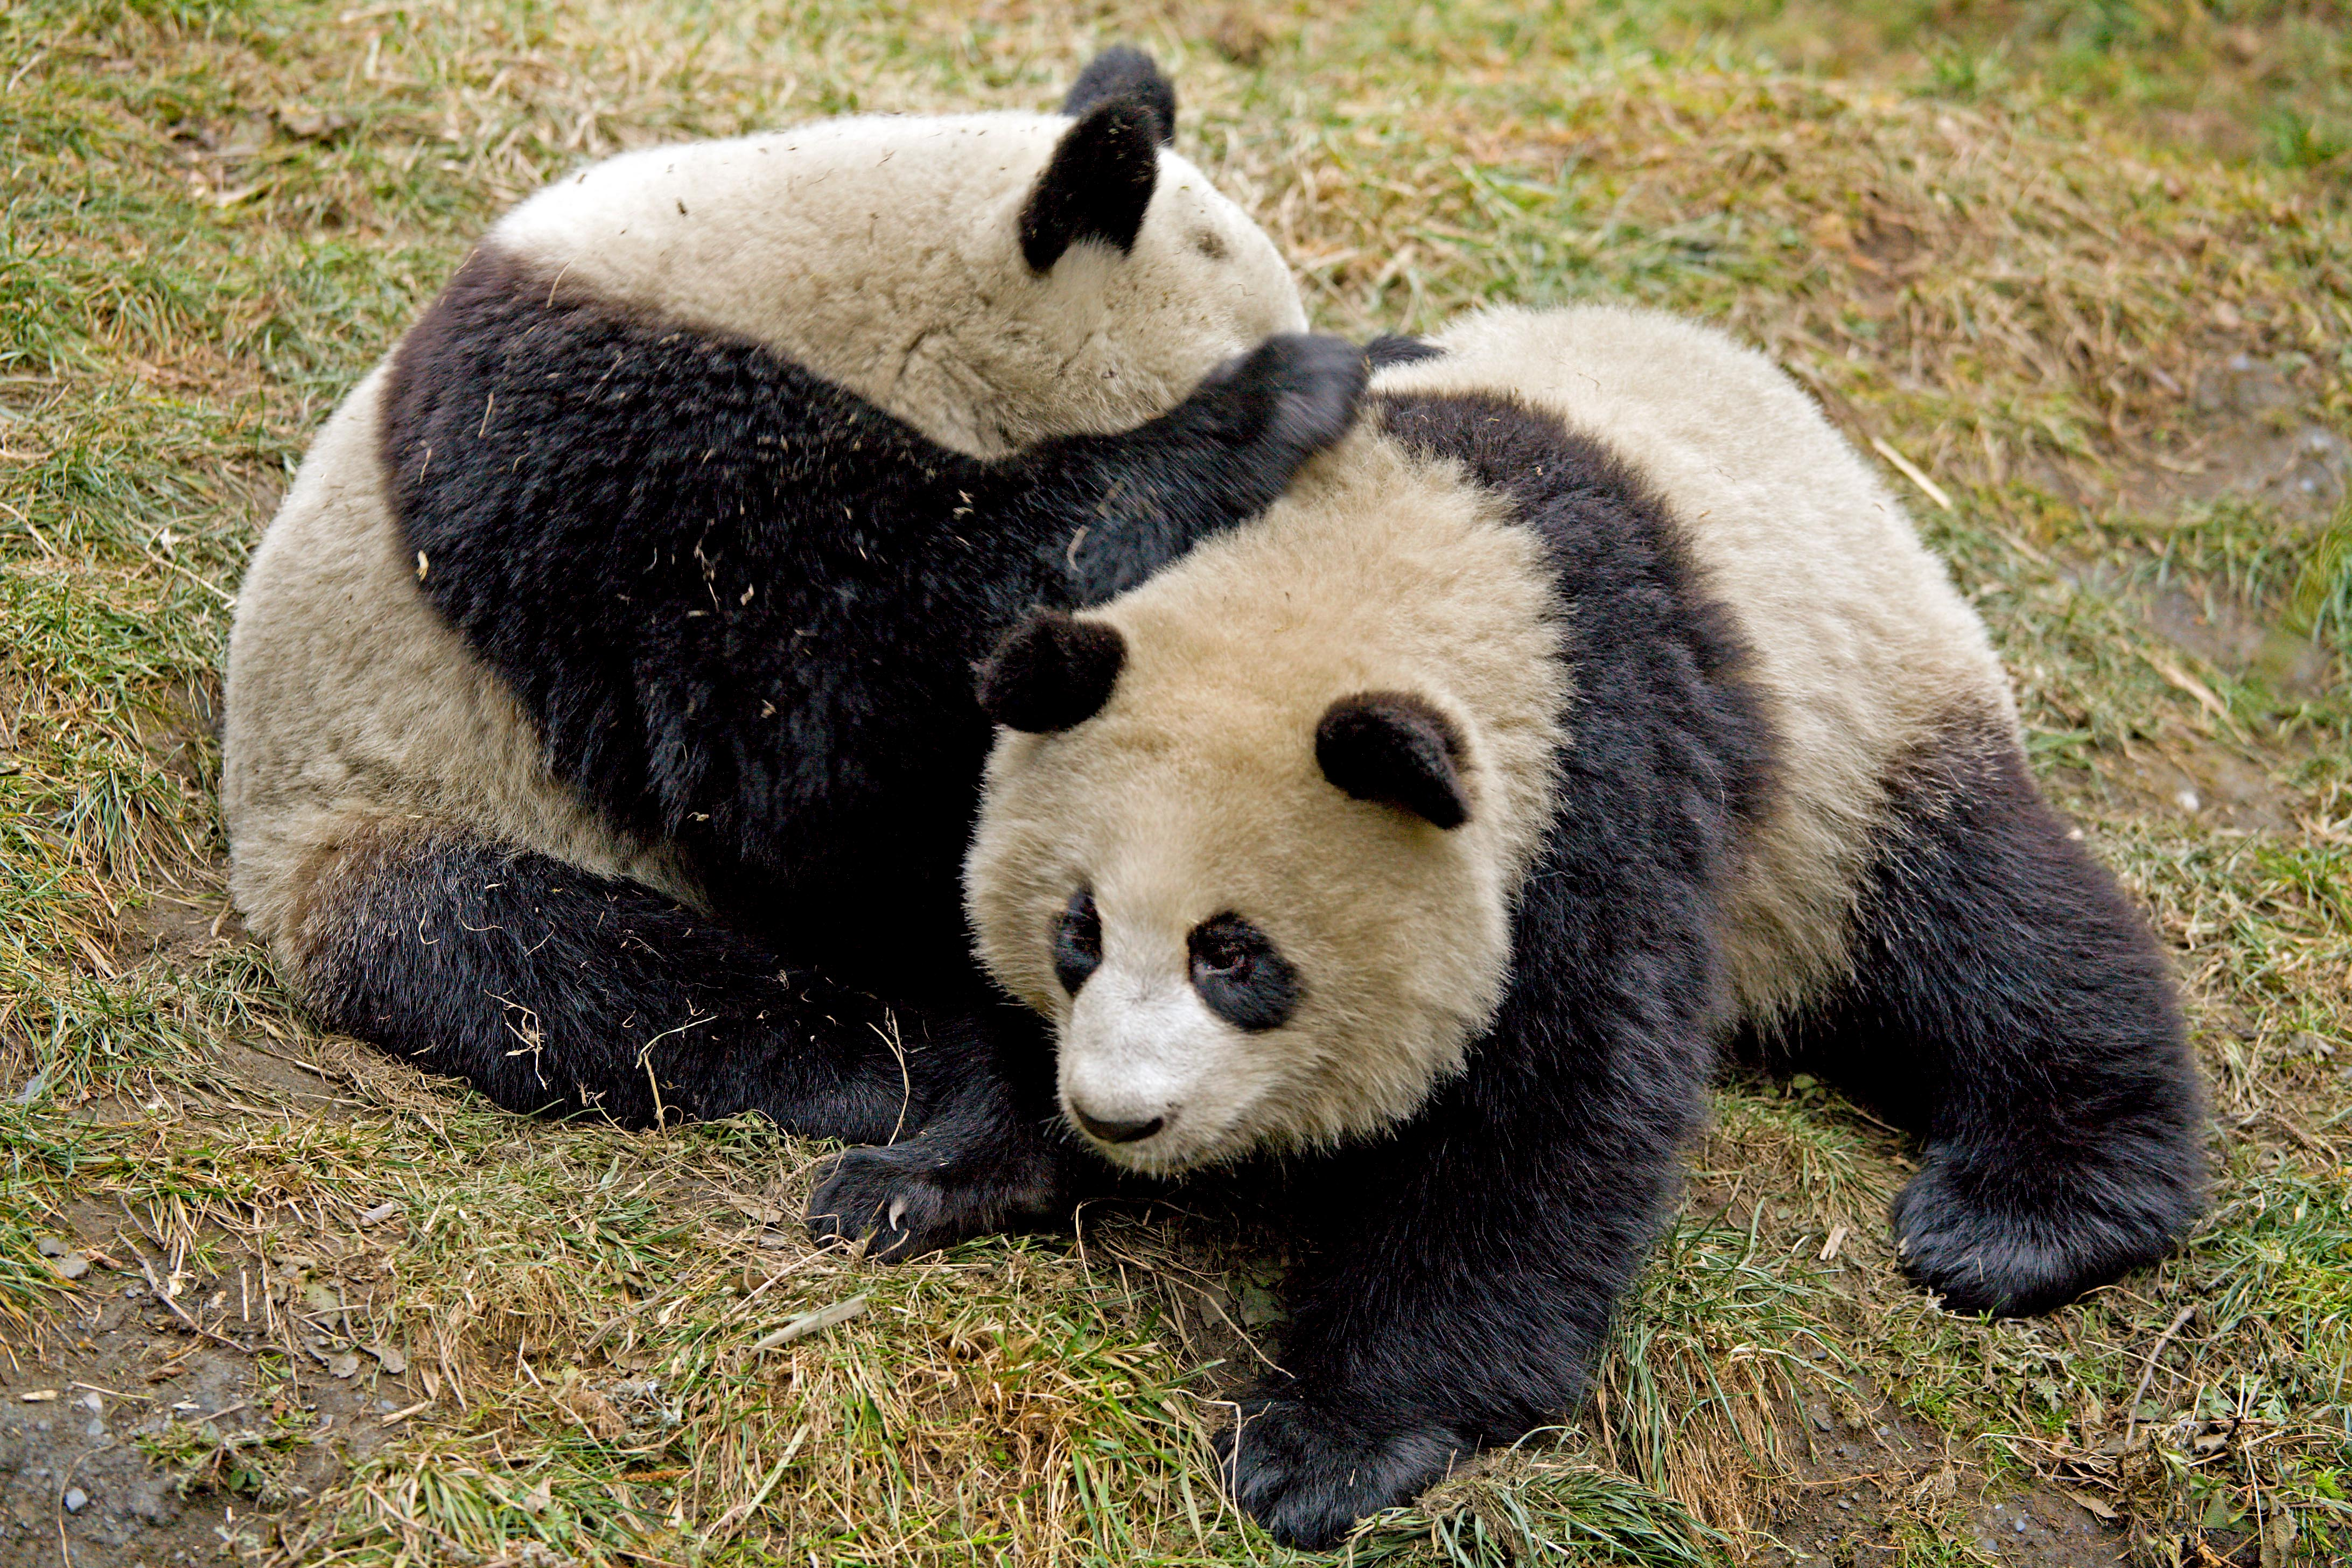panda: (922, 318, 2273, 1472), (185, 35, 1344, 1123)
